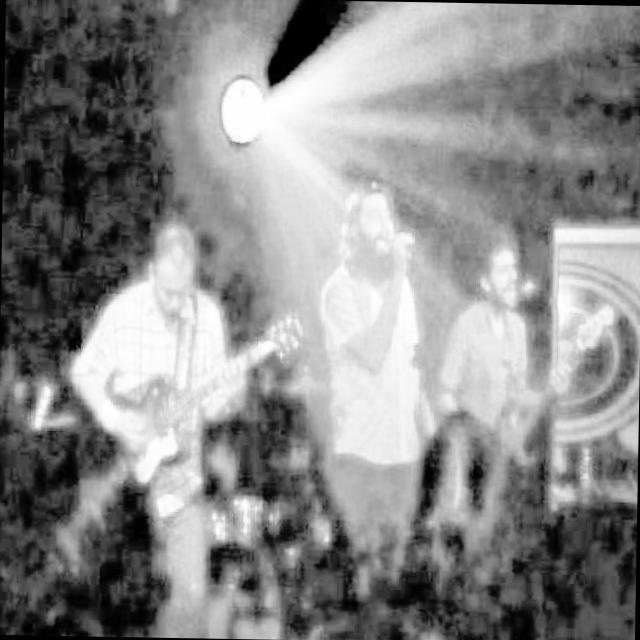Person: (60, 212, 256, 606), (318, 178, 446, 584), (435, 226, 534, 449)
